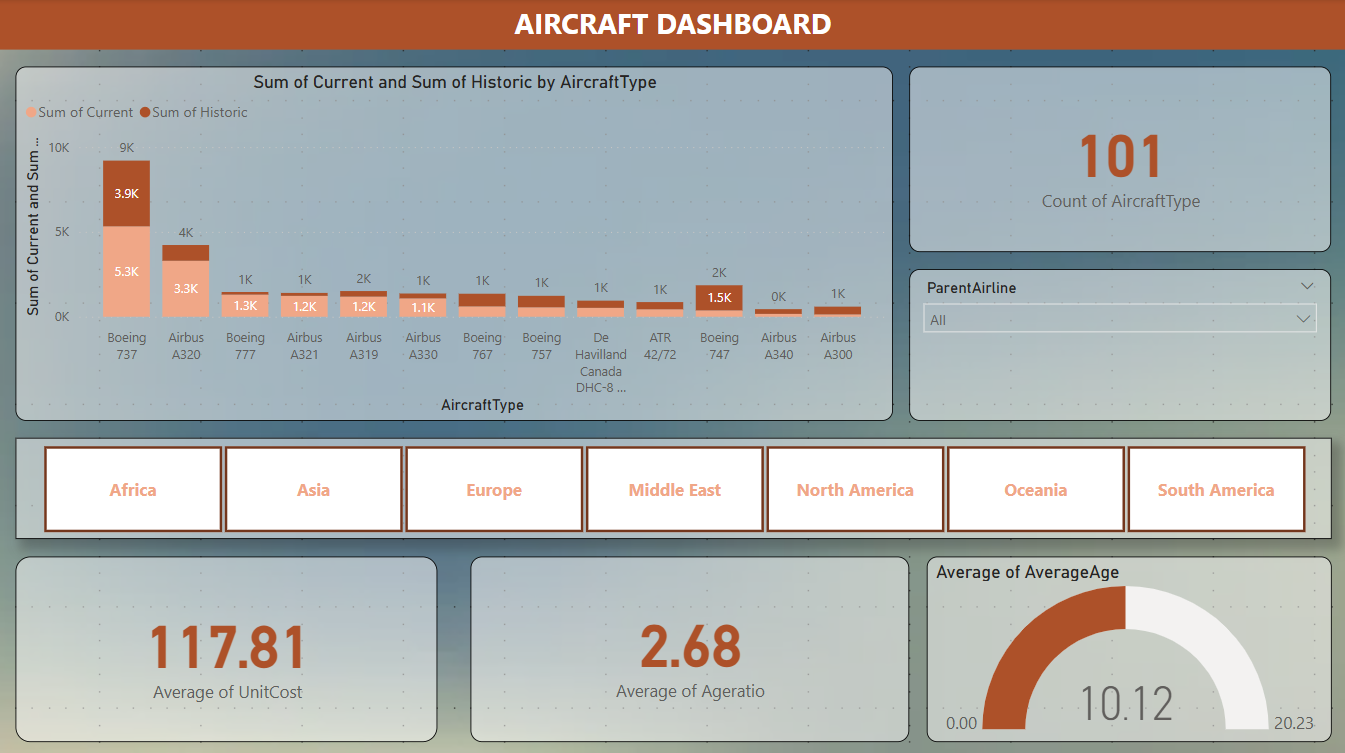

The page's visual inventory and layout, read from the dashboard file:
{"tool":"powerbi","page":{"name":"Page 2","canvas":[1280,720],"ordinal":1},"visuals":[{"type":"columnChart","fields":{"Category":["Fleet_Reg.AircraftType"],"Y":["Sum(Fleet_Reg.Current)","Sum(Fleet_Reg.Historic)"]},"box":[16,64,832,336],"z":0},{"type":"slicer","fields":{"Values":["Fleet_Reg.Region"]},"box":[16,416,1248,96],"z":1000},{"type":"card","fields":{"Values":["Count(Fleet_Reg.AircraftType)"]},"box":[864,64,400,176],"z":2000},{"type":"slicer","fields":{"Values":["Fleet_Reg.ParentAirline"]},"box":[864,256,400,144],"z":3000},{"type":"card","fields":{"Values":["Avg(Fleet_Reg.UnitCost)"]},"box":[16,528,400,176],"z":4000},{"type":"gauge","fields":{"Y":["Avg(Fleet_Reg.AverageAge)"]},"box":[880,528,384,176],"z":5000},{"type":"textbox","box":[0,0,1280,48],"z":6000},{"type":"card","fields":{"Values":["Avg(Fleet_Reg.Ageratio)"]},"box":[448,528,416,176],"z":7000}]}

Visuals, with their boxes in screenshot pixels (x1, y1, x2, y2), scaled from the page's 1280x720 canvas onto the 1345x753 screenshot:
columnChart - Fleet_Reg.AircraftType x Sum(Fleet_Reg.Current): 17 67 891 418
slicer - Fleet_Reg.Region: 17 435 1328 535
card - Count(Fleet_Reg.AircraftType): 908 67 1328 251
slicer - Fleet_Reg.ParentAirline: 908 268 1328 418
card - Avg(Fleet_Reg.UnitCost): 17 552 437 736
gauge - Avg(Fleet_Reg.AverageAge): 925 552 1328 736
textbox: 0 0 1344 50
card - Avg(Fleet_Reg.Ageratio): 471 552 908 736
